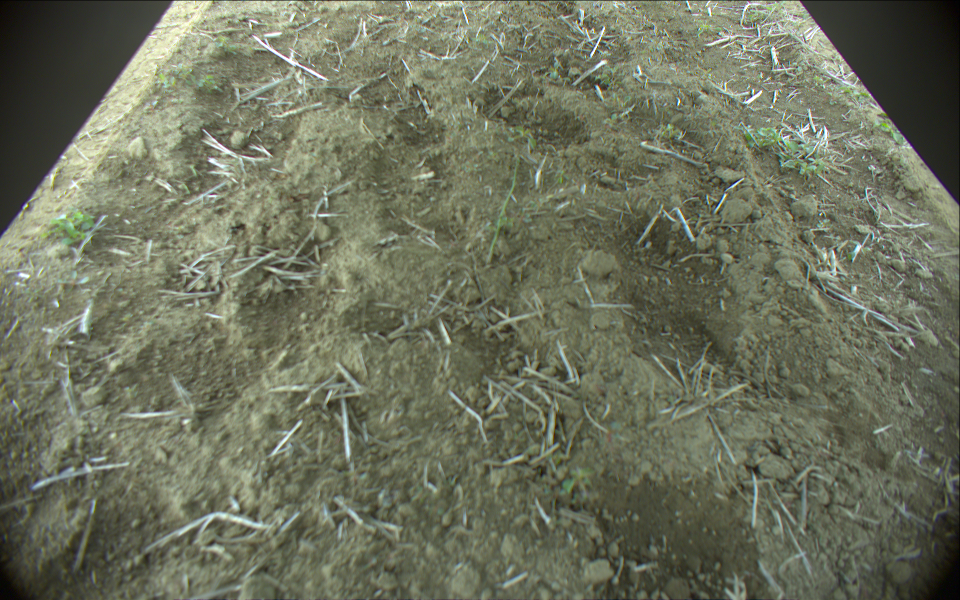aspa: (487, 155, 521, 268)
